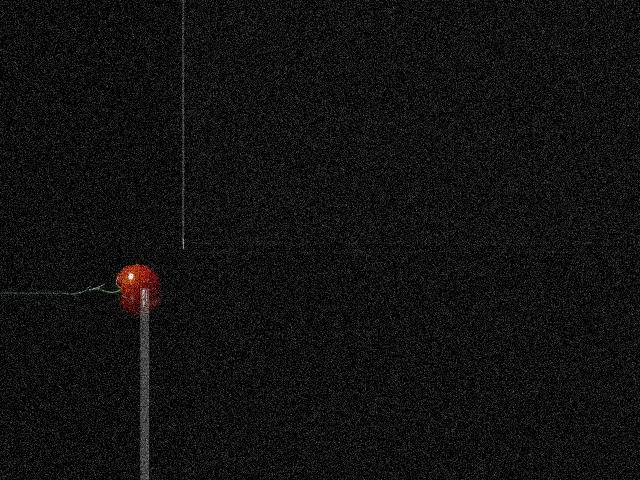tomato: (117, 265, 159, 314)
